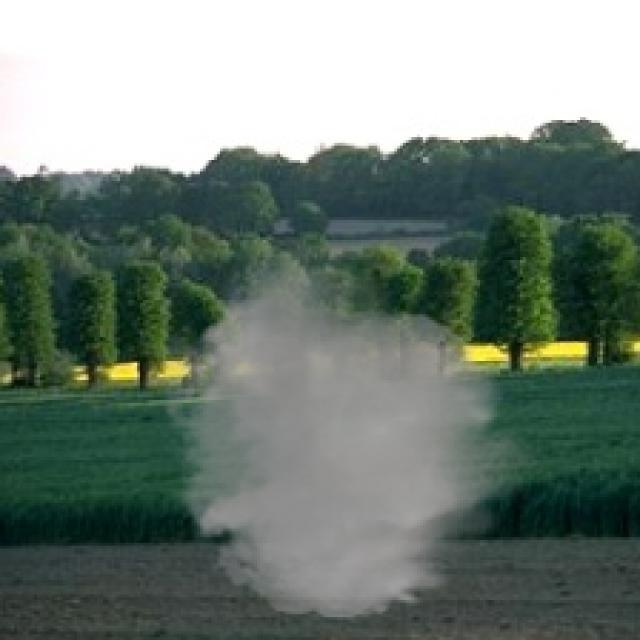Smoke: (146, 234, 548, 629)
